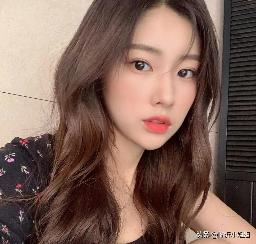face: (106, 1, 198, 149)
